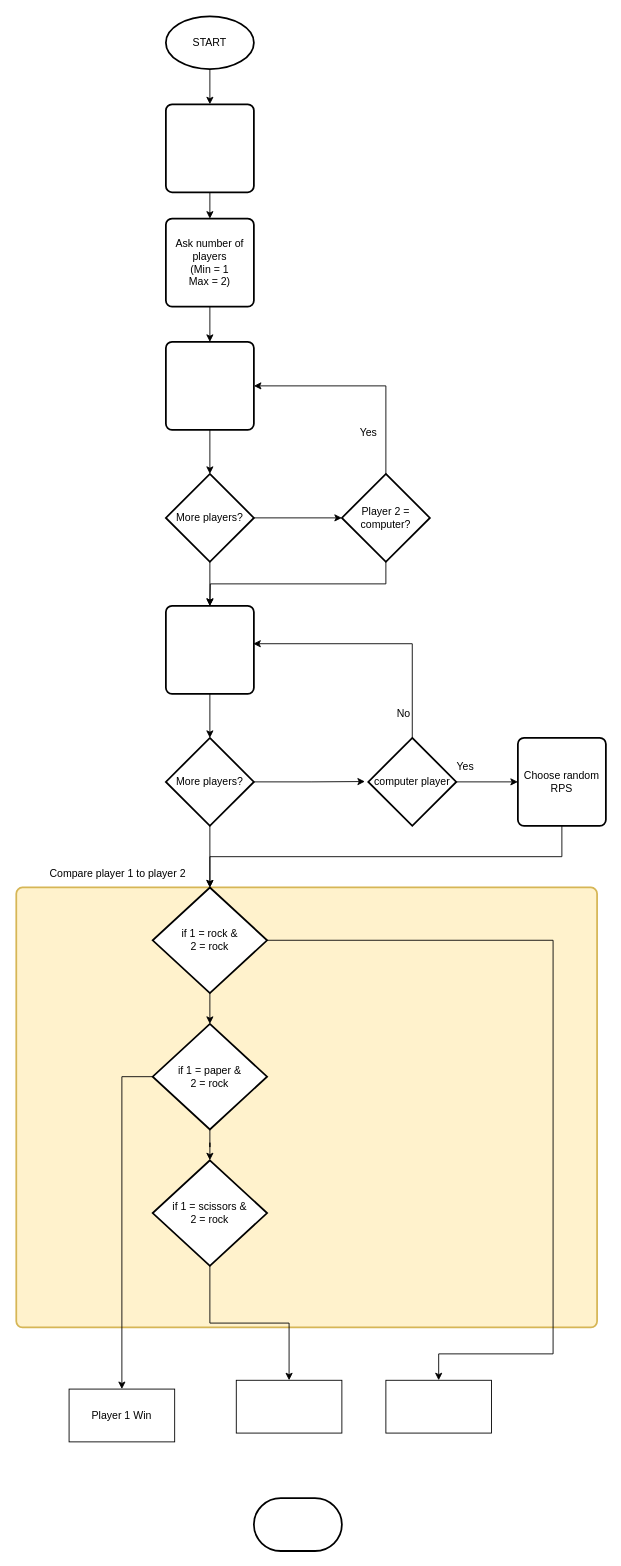
Some shapes in this 621 by 1566 pixel diagram are drawn without their labels. Here are the shapes that lost their labels. From the top down, the centre of each, then its label:
At (209,148): "Display Welcome".
At (209,385): "Get player name".
At (209,649): "Get choice of RPS from player".
At (288,1406): "Player 2 Win".
At (438,1406): "Draw".
At (297,1524): "END".
